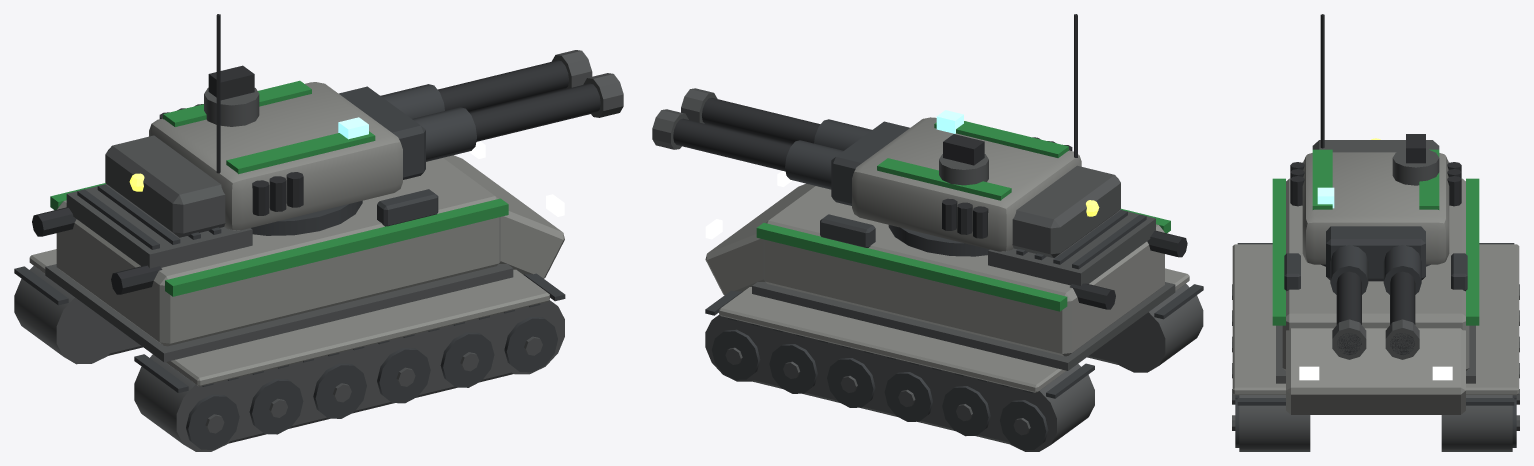
Rendered from u_heavy.glb.
3 renders of one model, left to right at view 1: azimuth 30°, elevation 25°; view 2: azimuth 150°, elevation 25°; view 3: azimuth 270°, elevation 25°, orthographic. The views are drawn at different scales.
Visible parts, largest first — view 1: Heavy_Walls, Heavy_turret, Heavy_Details, Heavy_Foundation, Heavy_Frame; view 2: Heavy_Walls, Heavy_turret, Heavy_Details, Heavy_Foundation, Heavy_Frame; view 3: Heavy_Walls, Heavy_turret, Heavy_Details, Heavy_Foundation, Heavy_Frame.
Part boxes in pixels (x1,y1,x2,y2): Heavy_Walls: (29, 155, 564, 386); Heavy_turret: (105, 14, 623, 237); Heavy_Details: (14, 141, 565, 433); Heavy_Foundation: (14, 266, 564, 451); Heavy_Frame: (186, 317, 557, 449); Heavy_Walls: (705, 183, 1189, 392); Heavy_turret: (652, 14, 1120, 257); Heavy_Details: (705, 171, 1203, 435); Heavy_Foundation: (705, 283, 1203, 451); Heavy_Frame: (712, 329, 1048, 450); Heavy_Walls: (1232, 178, 1519, 414); Heavy_turret: (1290, 14, 1461, 359); Heavy_Details: (1232, 178, 1519, 430); Heavy_Foundation: (1239, 395, 1512, 451); Heavy_Frame: (1235, 395, 1516, 447).
Bounding box in the file's own units: 1.52 × 1.08 × 0.864.
